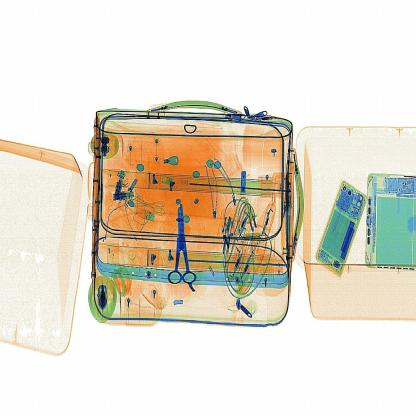gun: (162, 191, 201, 290)
